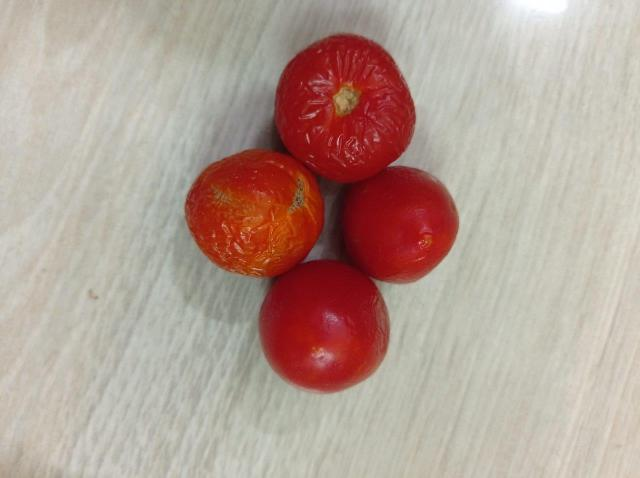defect: (271, 29, 417, 185), (183, 146, 329, 284)
